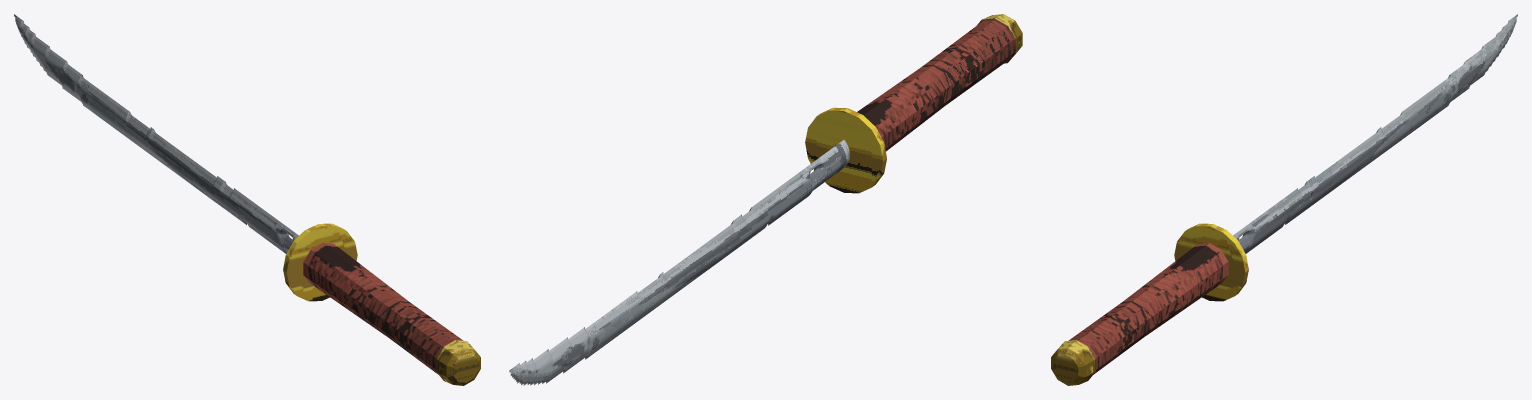
File: katana.glb
3 views of the same model, side by side, from view 1: azimuth 30°, elevation 25°; view 2: azimuth 150°, elevation 25°; view 3: azimuth 330°, elevation 25° (orthographic). The views are drawn at different scales.
Parts seen in each view (by area): view 1: blade, grip, tsuba, cap; view 2: blade, grip, tsuba, cap; view 3: blade, grip, tsuba, cap.
Boxes of the visible parts, x1,y1,x2,y2 form: blade: (14, 14, 298, 253); grip: (303, 243, 463, 374); tsuba: (283, 223, 357, 301); cap: (436, 340, 480, 385); blade: (509, 140, 849, 385); grip: (857, 18, 1015, 151); tsuba: (805, 107, 886, 193); cap: (982, 14, 1022, 61); blade: (1233, 14, 1517, 253); grip: (1068, 243, 1228, 374); tsuba: (1174, 223, 1248, 301); cap: (1051, 340, 1095, 385).
Bounding box in the file's own units: 0.0901 × 0.0901 × 0.9935.
Materials: 2 (2 with a texture image).
